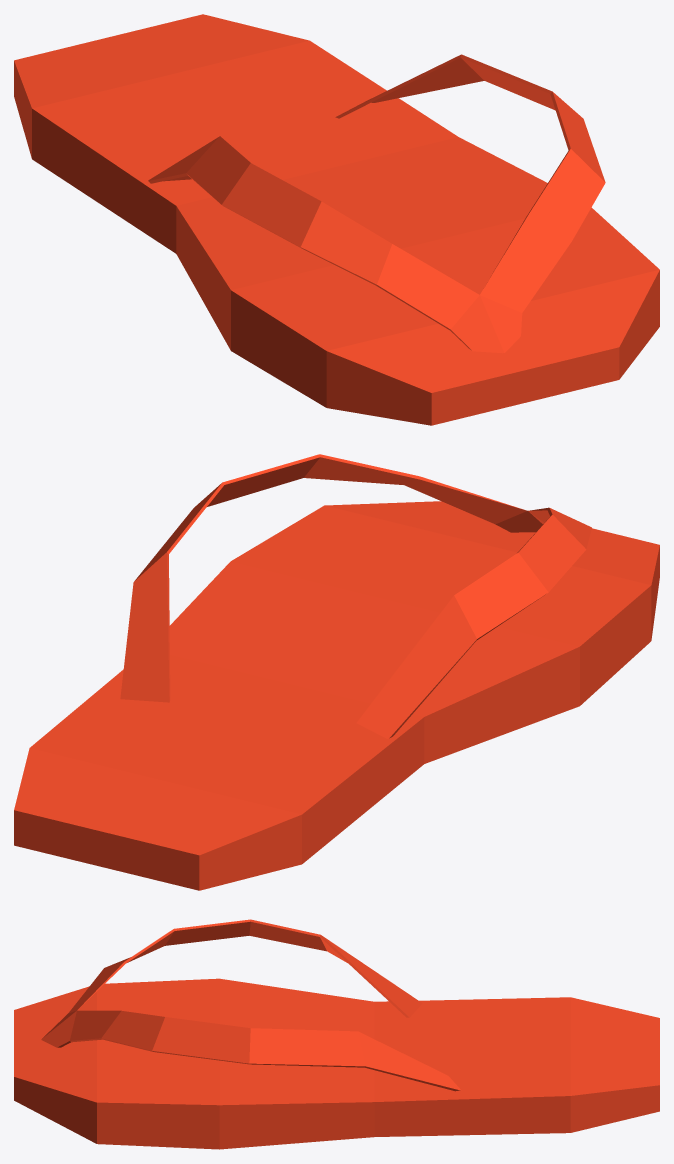
Rendered from SM_Flipflops_L_City.fbx.
The picture shows the model from 3 angles, top to bottom: view 1: azimuth 30°, elevation 25°; view 2: azimuth 150°, elevation 25°; view 3: azimuth 270°, elevation 25°; orthographic projection. The views are drawn at different scales.
Parts seen in each view (by area): view 1: SM_Flipflops_L_City; view 2: SM_Flipflops_L_City; view 3: SM_Flipflops_L_City.
Boxes of the visible parts, bbox=[...] form: SM_Flipflops_L_City: bbox=[14, 14, 659, 425]; SM_Flipflops_L_City: bbox=[14, 454, 659, 890]; SM_Flipflops_L_City: bbox=[14, 919, 659, 1149].
Bounding box in the file's own units: 0.1308 × 0.0544 × 0.2693.
